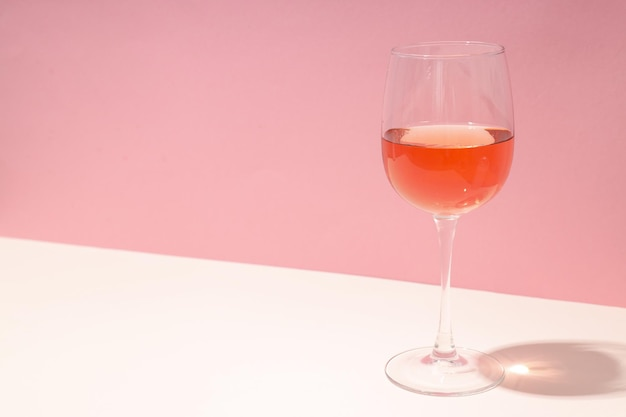alcohol: (380, 43, 515, 399)
